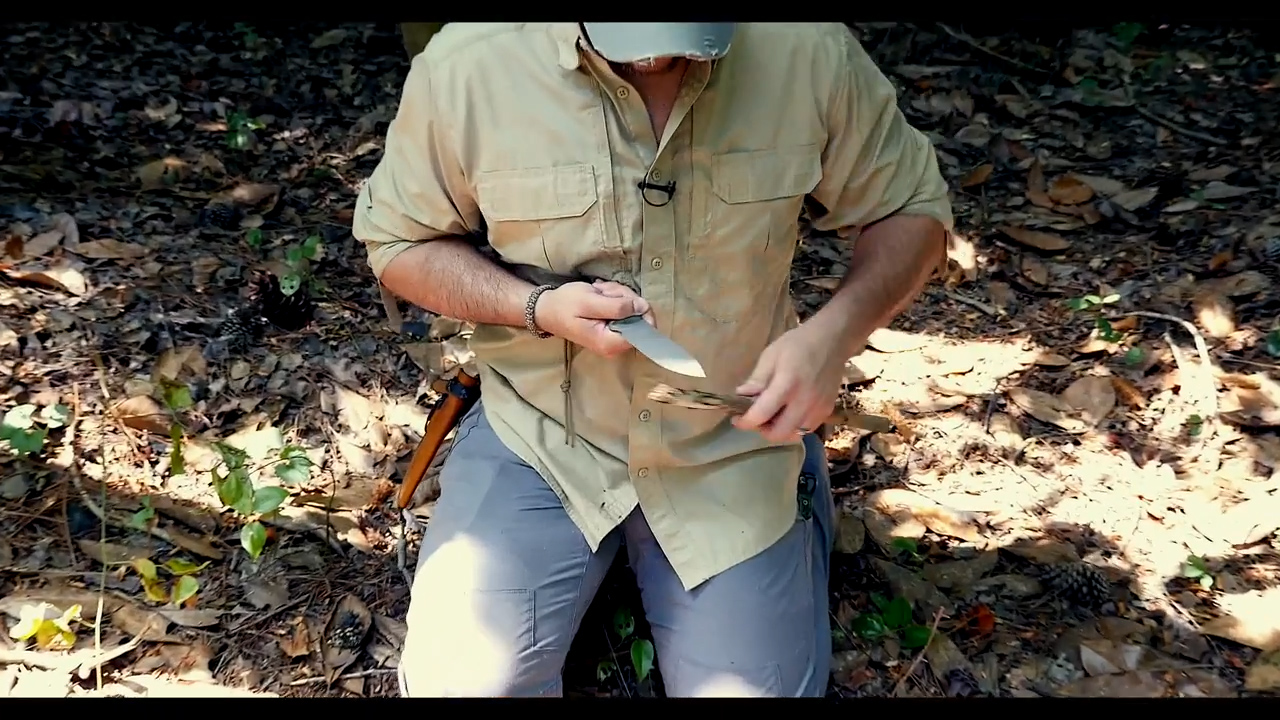knife: (544, 274, 713, 385)
